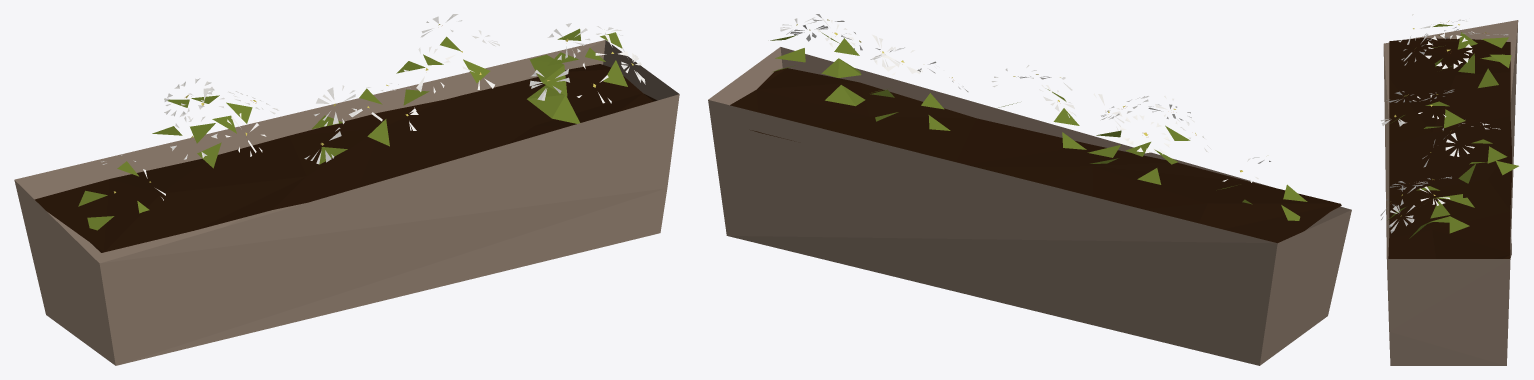
The model's file is bush_flower_box.glb.
The picture shows the model from 3 angles, left to right: view 1: azimuth 30°, elevation 25°; view 2: azimuth 150°, elevation 25°; view 3: azimuth 270°, elevation 25°; orthographic projection. The views are drawn at different scales.
Parts seen in each view (by area): view 1: Cube.309_Cube.303; view 2: Cube.309_Cube.303; view 3: Cube.309_Cube.303.
Boxes of the visible parts, x1=… form: Cube.309_Cube.303: x1=14, y1=14, x2=679, y2=365; Cube.309_Cube.303: x1=708, y1=14, x2=1351, y2=365; Cube.309_Cube.303: x1=1380, y1=19, x2=1518, y2=365.
Size of the model in its own units: 0.5425 by 0.1894 by 0.1337.
